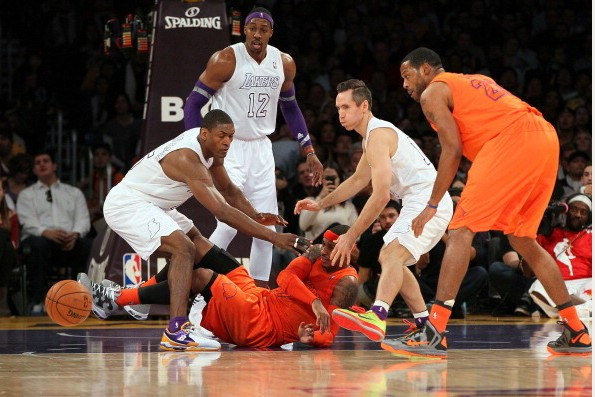10+: (1, 1, 590, 360)
down: (164, 215, 366, 357)
